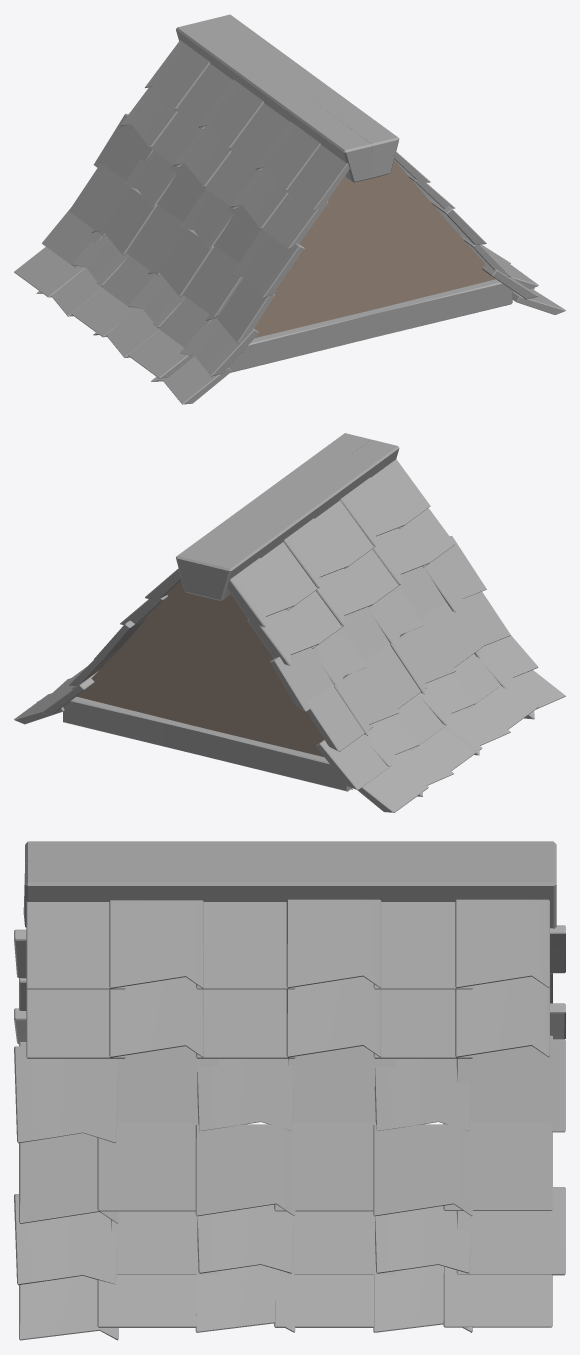
Rendered from TechoUnico.fbx.
The picture shows the model from 3 angles, top to bottom: view 1: azimuth 30°, elevation 25°; view 2: azimuth 150°, elevation 25°; view 3: azimuth 270°, elevation 25°; orthographic projection. The views are drawn at different scales.
Parts seen in each view (by area): view 1: polySurface2398; view 2: polySurface2398; view 3: polySurface2398.
Boxes of the visible parts, box(x1,y1,x2,y2) form: polySurface2398: box(14, 14, 565, 404); polySurface2398: box(14, 433, 565, 812); polySurface2398: box(14, 841, 565, 1340).
Bounding box in the file's own units: 1.63 × 0.8623 × 1.29.
